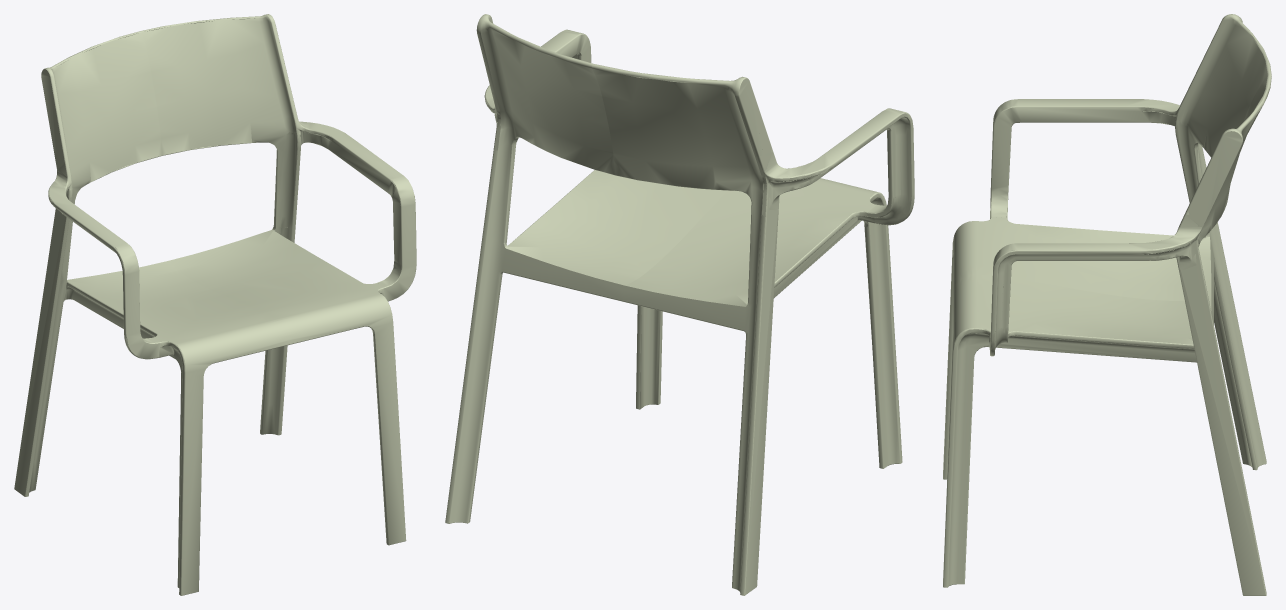
The model's file is toriru_woodgreen.fbx.
3 renders of one model, left to right at view 1: azimuth 30°, elevation 25°; view 2: azimuth 150°, elevation 25°; view 3: azimuth 270°, elevation 25°, orthographic. The views are drawn at different scales.
Parts seen in each view (by area): view 1: toriru-green; view 2: toriru-green; view 3: toriru-green.
Part boxes in pixels (bbox=[...]): toriru-green: bbox=[14, 14, 416, 595]; toriru-green: bbox=[445, 14, 914, 595]; toriru-green: bbox=[943, 14, 1271, 595].
Bounding box in the file's own units: 58.5 × 82.1 × 53.5.
